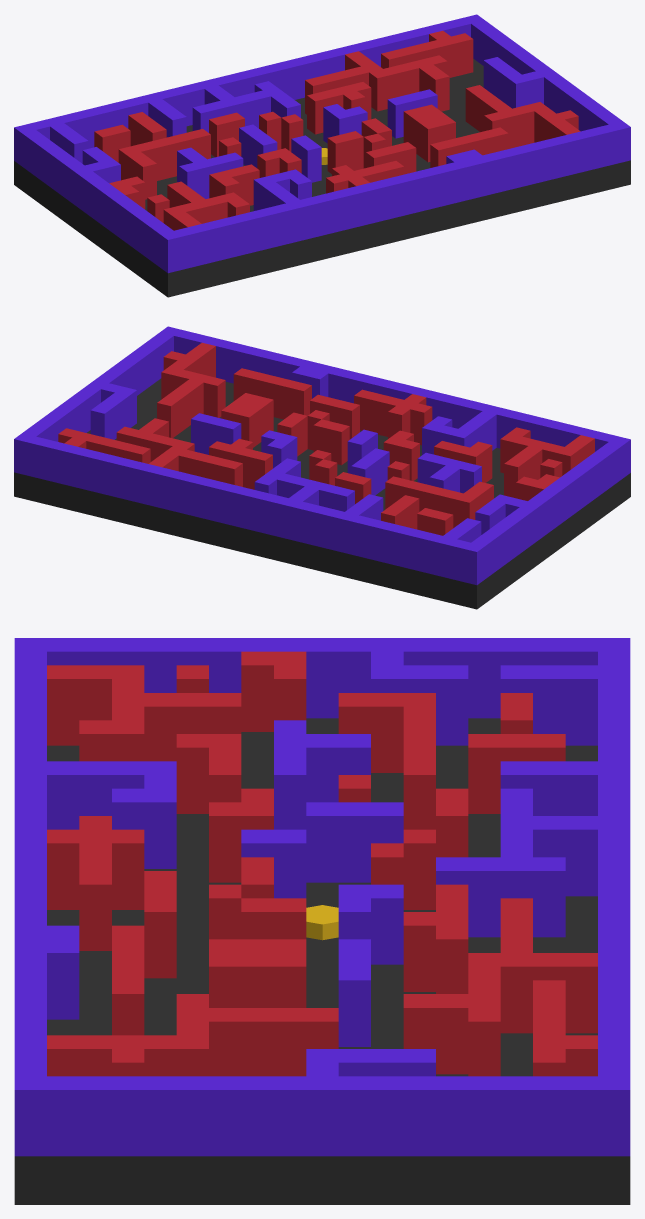
File: Nivel2.fbx
The picture shows the model from 3 angles, top to bottom: view 1: azimuth 30°, elevation 25°; view 2: azimuth 150°, elevation 25°; view 3: azimuth 270°, elevation 25°; orthographic projection. The views are drawn at different scales.
Visible parts, largest first — view 1: Walls, KillObstacles, Base, Obstacles; view 2: Walls, KillObstacles, Base, Obstacles; view 3: KillObstacles, Walls, Obstacles, Base, Win.
Part boxes in pixels (left/top/right/bottom): Walls: left=14, top=14, right=630, bottom=273; KillObstacles: left=94, top=30, right=580, bottom=230; Base: left=14, top=59, right=630, bottom=297; Obstacles: left=50, top=57, right=543, bottom=210; Walls: left=14, top=326, right=630, bottom=585; KillObstacles: left=58, top=342, right=594, bottom=535; Base: left=14, top=378, right=630, bottom=609; Obstacles: left=90, top=366, right=527, bottom=542; KillObstacles: left=47, top=651, right=597, bottom=1076; Walls: left=14, top=638, right=630, bottom=1156; Obstacles: left=47, top=651, right=597, bottom=1076; Base: left=14, top=718, right=630, bottom=1204; Win: left=306, top=905, right=338, bottom=940.
Bounding box in the file's own units: 4000 × 474 × 2303.
